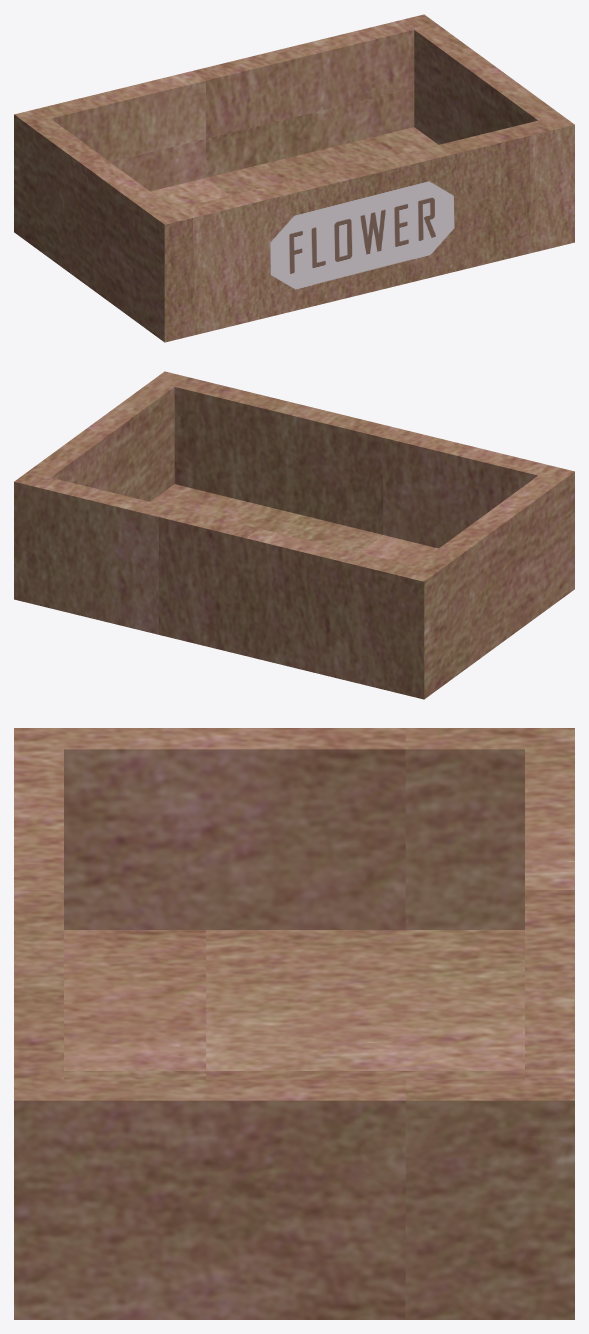
The model's file is Flower Box.fbx.
The picture shows the model from 3 angles, top to bottom: view 1: azimuth 30°, elevation 25°; view 2: azimuth 150°, elevation 25°; view 3: azimuth 270°, elevation 25°; orthographic projection. The views are drawn at different scales.
Visible parts, largest first — view 1: Flower Box; view 2: Flower Box; view 3: Flower Box.
Boxes of the visible parts, box(x1,y1,x2,y2) form: Flower Box: box(14, 14, 574, 342); Flower Box: box(14, 371, 574, 699); Flower Box: box(14, 728, 574, 1319).
Bounding box in the file's own units: 0.1871 × 0.0513 × 0.1191.
